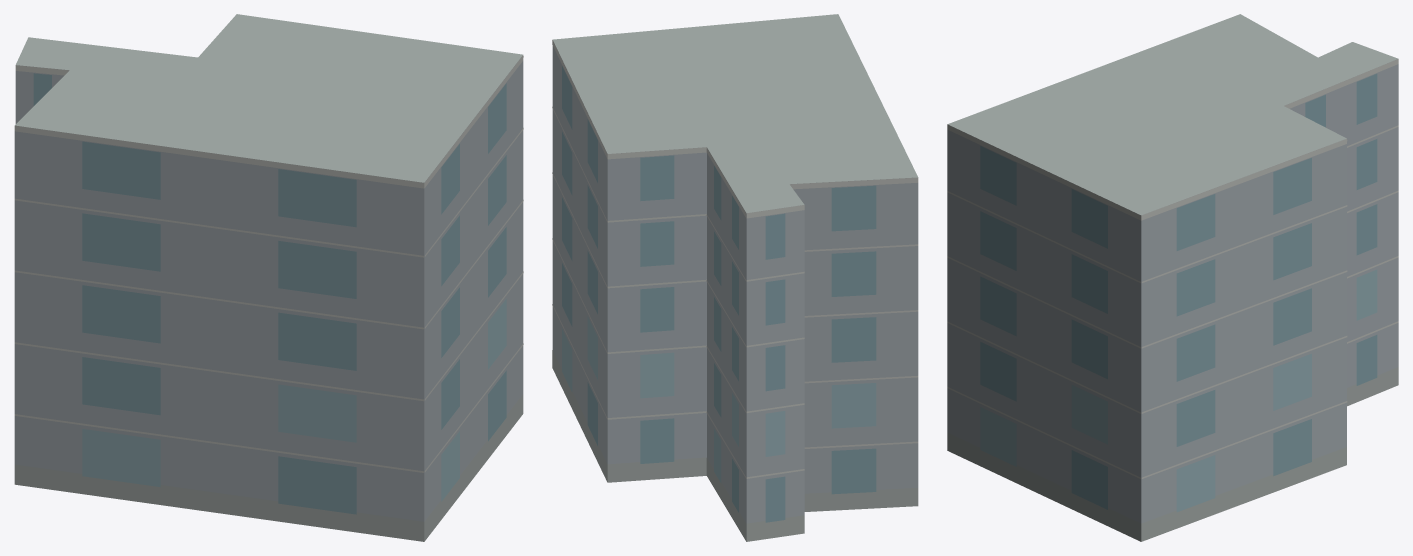
Rendered from survey-upis-32733794.glb.
3 views of the same model, side by side, from view 1: azimuth 30°, elevation 25°; view 2: azimuth 150°, elevation 25°; view 3: azimuth 270°, elevation 25° (orthographic). The views are drawn at different scales.
Parts seen in each view (by area): view 1: survey-upis-32733794.tmp; view 2: survey-upis-32733794.tmp; view 3: survey-upis-32733794.tmp.
Boxes of the visible parts, x1,y1,x2,y2 form: survey-upis-32733794.tmp: (14,14,523,541); survey-upis-32733794.tmp: (552,14,918,541); survey-upis-32733794.tmp: (947,14,1398,541).
Bounding box in the file's own units: 19.98 × 15.08 × 18.91.
